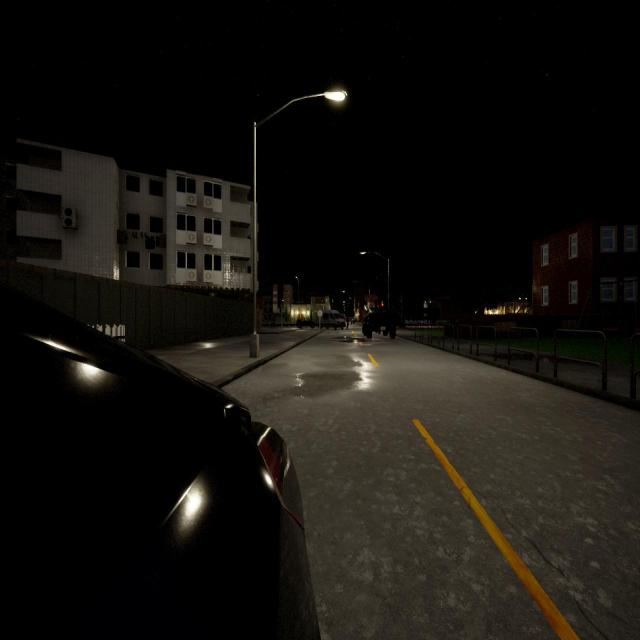Pedestrian: (346, 314, 350, 331)
Traffic_Signs: (317, 310, 323, 317)
Vehicle: (0, 285, 319, 638), (362, 306, 398, 338), (316, 310, 346, 330), (296, 318, 316, 329), (351, 318, 356, 326)
traffic_light: (382, 300, 384, 306)
